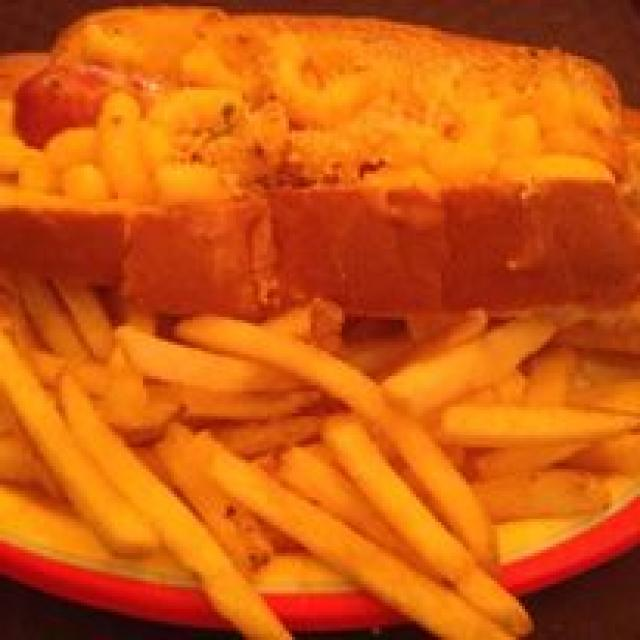French Fries: (3, 304, 634, 637)
